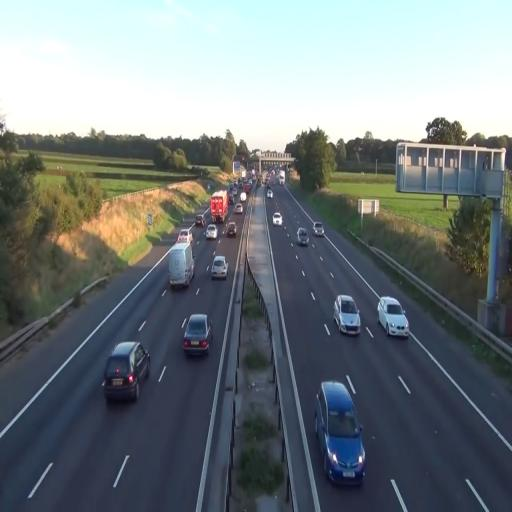vehicle: (314, 379, 366, 486), (315, 382, 365, 484), (103, 342, 150, 403), (103, 342, 149, 401), (110, 340, 151, 394), (102, 353, 140, 402), (378, 296, 410, 338), (167, 242, 195, 290), (182, 312, 211, 356), (168, 242, 195, 289), (378, 297, 409, 337), (333, 294, 361, 336), (184, 314, 212, 354), (334, 295, 360, 335), (210, 191, 228, 224), (211, 190, 227, 223), (210, 254, 228, 281), (212, 256, 228, 279), (206, 222, 218, 242), (224, 220, 237, 238), (297, 227, 309, 245), (297, 228, 309, 246), (178, 229, 193, 243), (312, 222, 324, 237), (206, 224, 217, 239), (272, 210, 282, 226), (313, 222, 324, 236), (226, 222, 236, 237), (273, 213, 282, 226), (195, 215, 205, 226), (235, 203, 243, 214), (279, 170, 285, 184), (240, 192, 246, 203), (228, 194, 234, 204), (244, 183, 250, 193), (267, 188, 273, 198), (241, 170, 246, 179), (248, 178, 253, 186), (279, 177, 284, 185), (266, 181, 270, 189), (239, 182, 243, 189), (233, 189, 237, 196)
